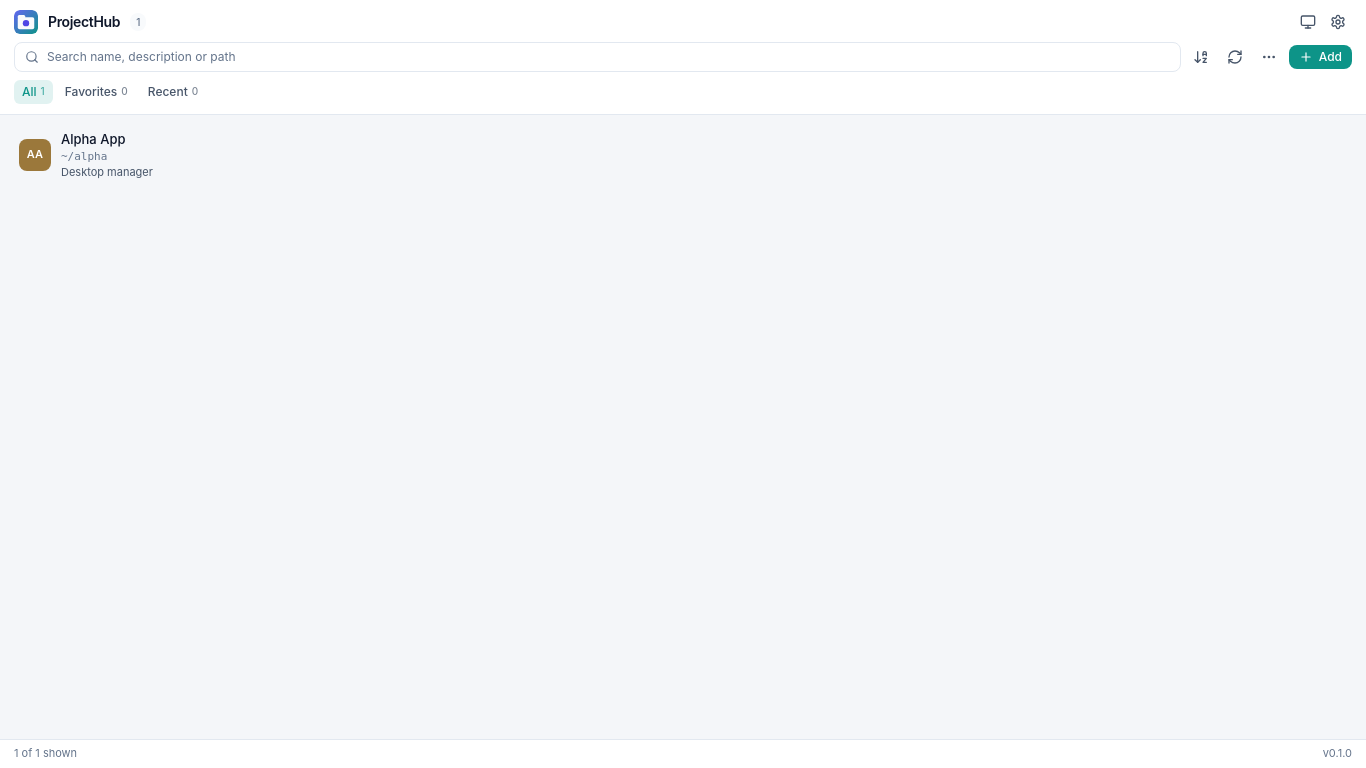
Test: App › opening Settings cancels the delayed project menu and keeps focus in Preferences
Click the option "AA Alpha App ~/alpha Desktop manager": point(86, 155) [19,131,153,179]
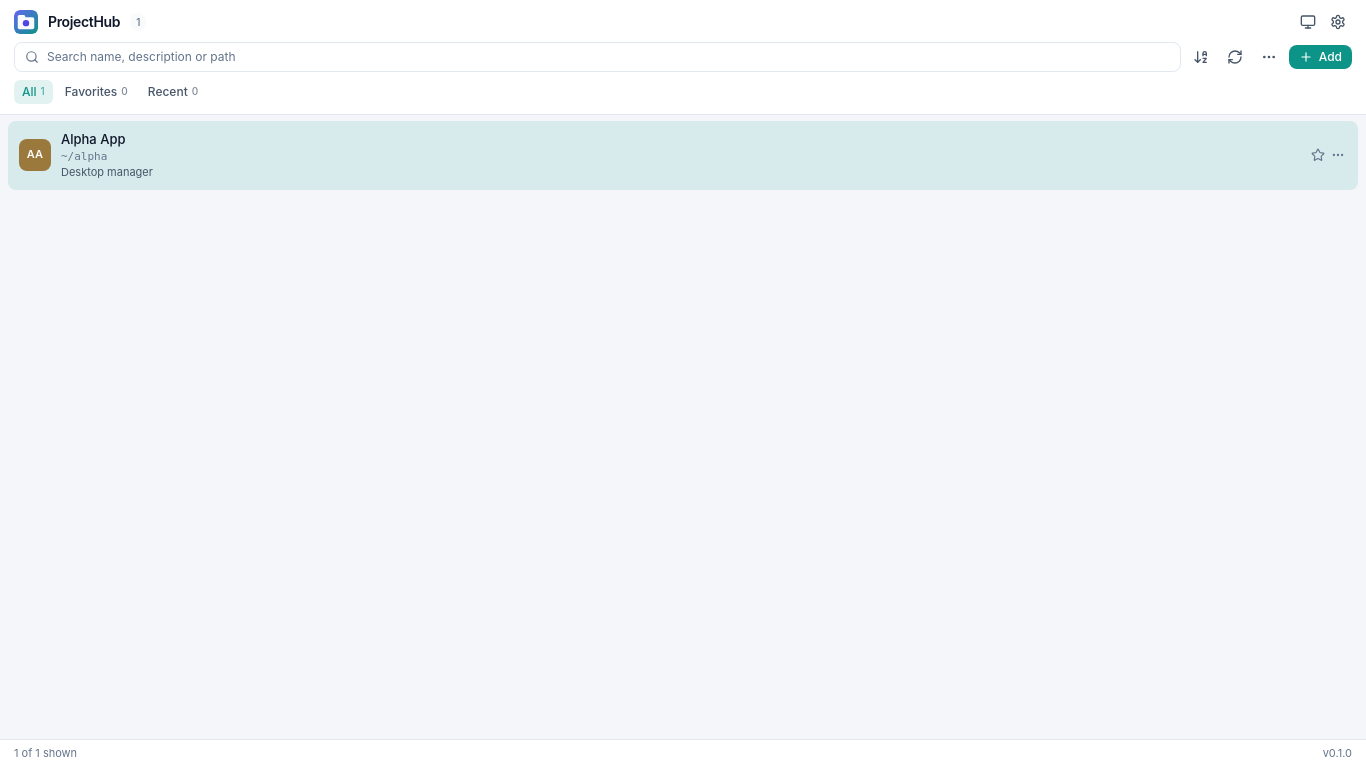
Click the button named "Settings": point(1338, 22) [1324,10,1352,34]
Wait 250 ms
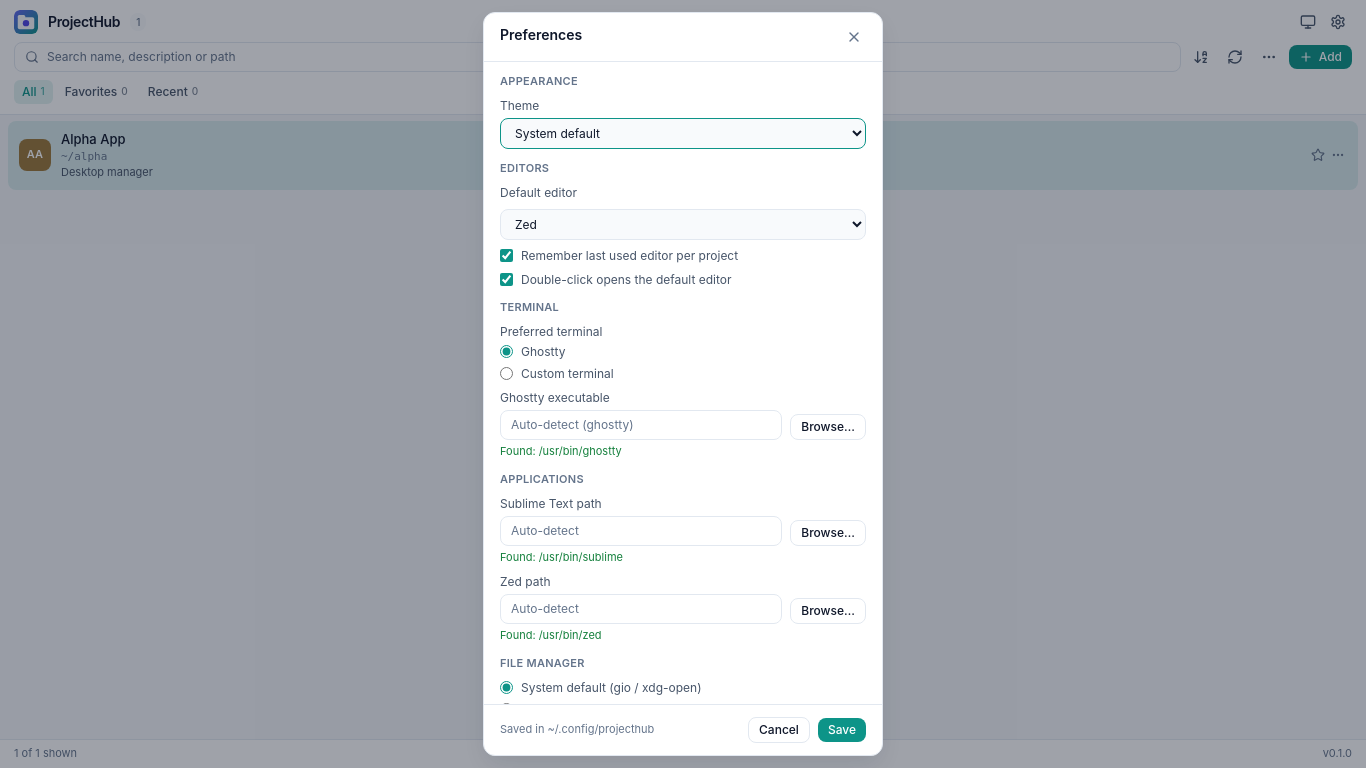
Result: the number of dialogs is 1 at [483,12,883,756]
Result: the dialog shows "Preferences" at [500,26,582,43]
